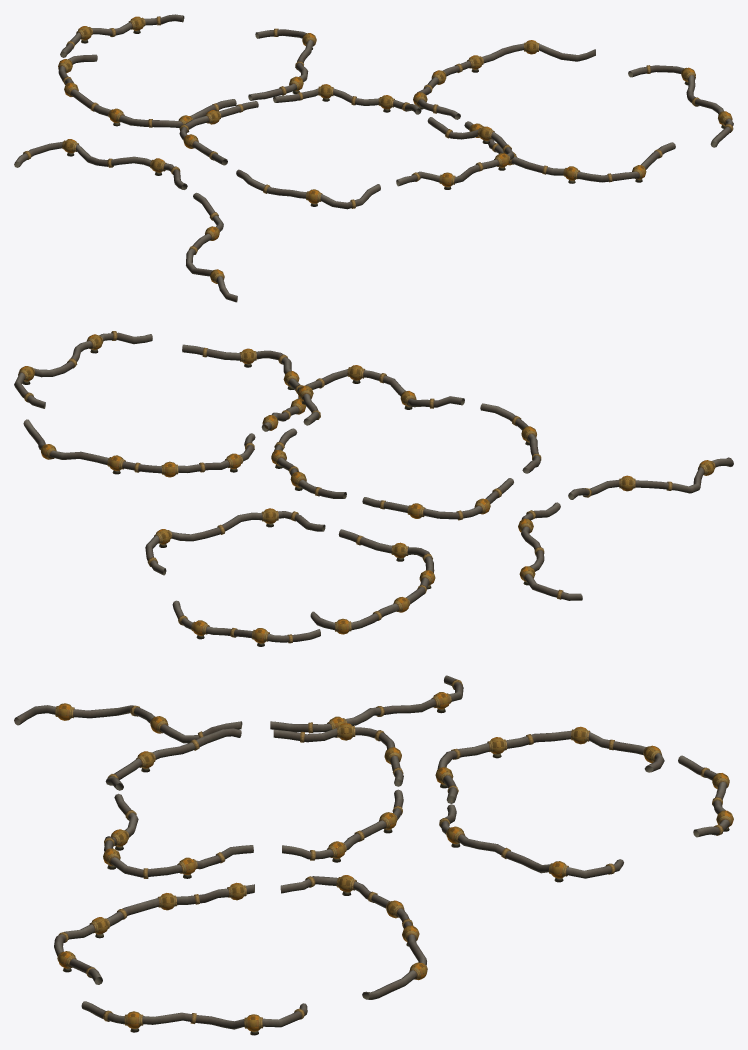
The picture shows the model from 3 angles, top to bottom: view 1: azimuth 30°, elevation 25°; view 2: azimuth 150°, elevation 25°; view 3: azimuth 270°, elevation 25°; orthographic projection. The views are drawn at different scales.
Visible parts, largest first — view 1: Object005, Object013, Object006, Object017, Object011, Object016, Object008, Object015, Object010, Object007, Object014, Object009; view 2: Object005, Object013, Object006, Object015, Object017, Object016, Object010, Object011, Object014, Object009, Object008, Object007; view 3: Object013, Object017, Object005, Object006, Object016, Object015, Object010, Object011, Object009, Object008, Object007, Object014.
Part boxes in pixels (x1,y1,x2,y2): Object005: (413,40,595,119); Object013: (58,54,236,132); Object006: (396,117,514,189); Object017: (464,121,675,183); Object011: (14,139,187,189); Object016: (628,65,733,147); Object008: (273,84,421,114); Object015: (248,28,316,100); Object010: (186,192,237,302); Object007: (236,169,380,209); Object014: (60,14,184,57); Object009: (179,101,258,165); Object005: (23,419,255,477); Object013: (310,529,435,634); Object006: (297,365,464,425); Object015: (145,508,325,575); Object017: (182,344,306,431); Object016: (14,331,152,408); Object010: (568,457,733,499); Object011: (518,502,582,600); Object014: (172,600,320,646); Object009: (362,478,513,520); Object008: (271,428,346,498); Object007: (480,403,541,473); Object013: (435,726,664,803); Object017: (54,882,254,984); Object005: (280,875,427,999); Object006: (103,793,253,878); Object016: (81,1001,307,1035); Object015: (439,804,623,882); Object010: (14,703,242,743); Object011: (270,675,463,737); Object009: (273,723,403,786); Object008: (282,789,403,862); Object007: (105,728,241,790); Object014: (678,755,733,837).
Bounding box in the file's own units: 10922 × 793 × 9409.
